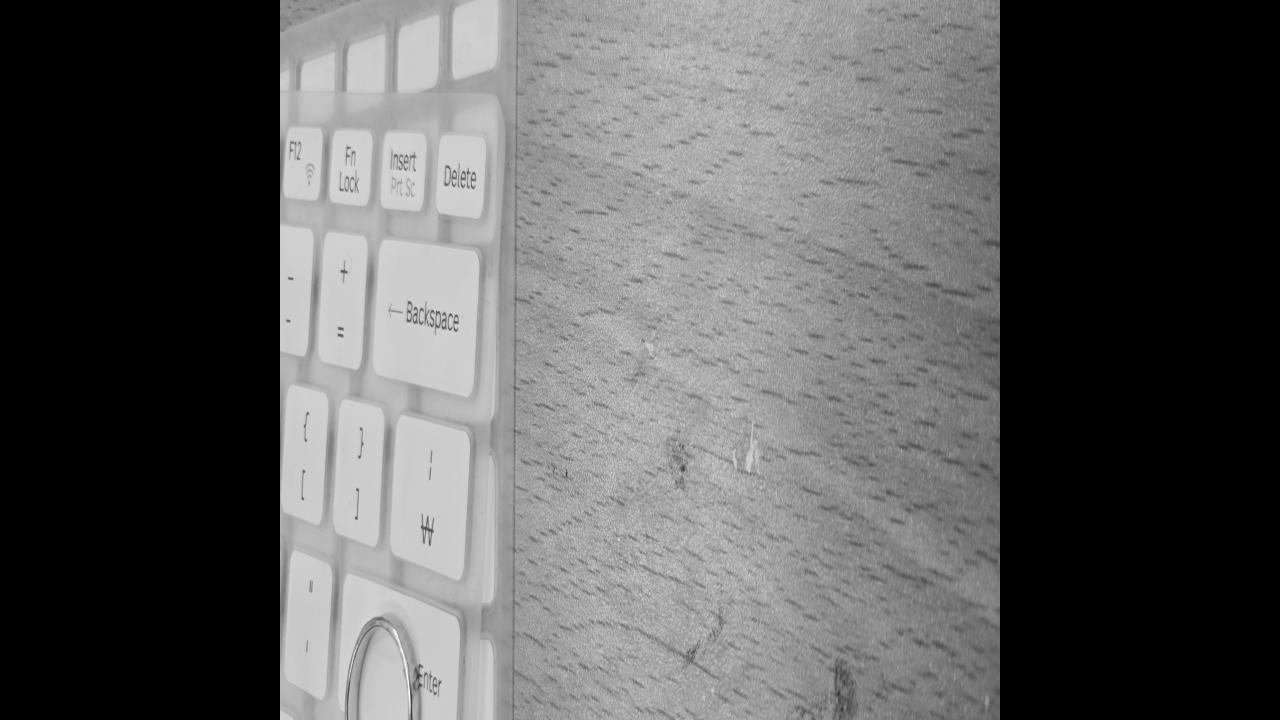ring: (344, 612, 420, 720)
